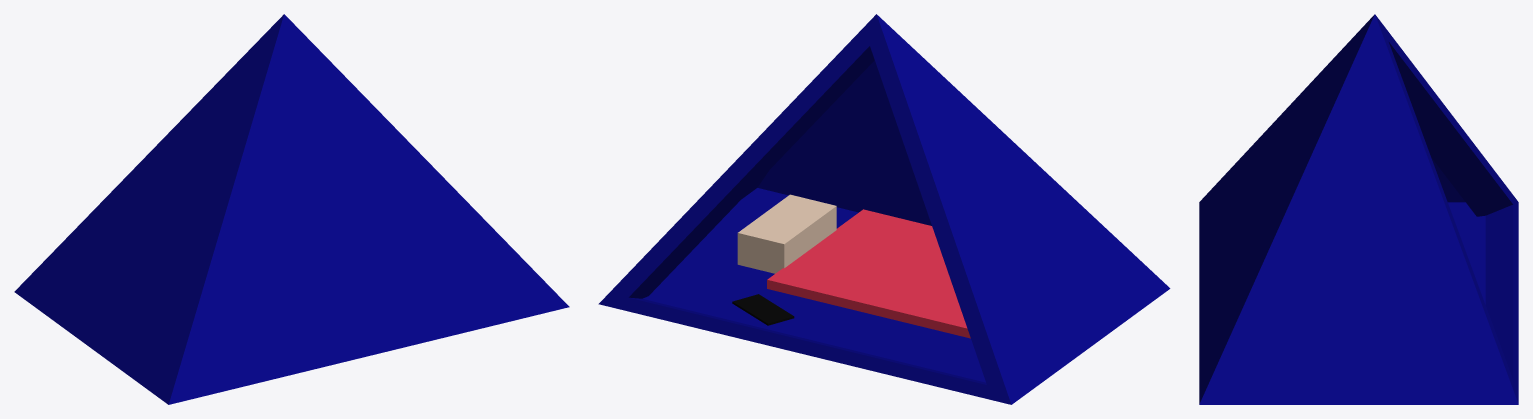
File: tent.glb
3 views of the same model, side by side, from view 1: azimuth 30°, elevation 25°; view 2: azimuth 150°, elevation 25°; view 3: azimuth 270°, elevation 25° (orthographic). The views are drawn at different scales.
Parts seen in each view (by area): view 1: Cube; view 2: Cube, Cube.001, Cube.002, Cube.003; view 3: Cube.
Part boxes in pixels (x1,y1,x2,y2): Cube: (14, 14, 569, 404); Cube: (598, 14, 1170, 404); Cube.001: (767, 209, 970, 338); Cube.002: (737, 194, 836, 273); Cube.003: (732, 294, 794, 325); Cube: (1199, 14, 1518, 404).
Bounding box in the file's own units: 6 × 4.04 × 4.
